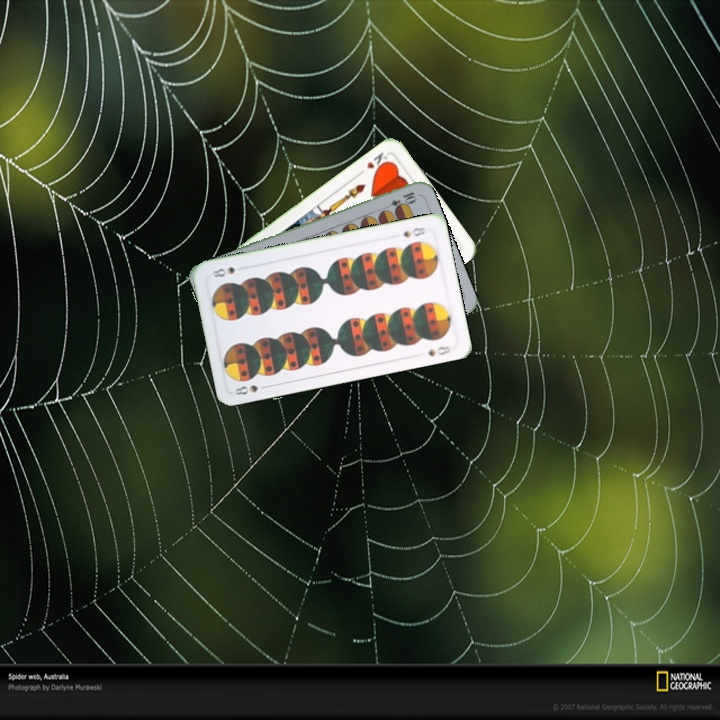E10: (380, 187, 419, 213)
HK: (362, 148, 391, 175)
S8: (231, 381, 271, 398), (399, 223, 431, 240)
